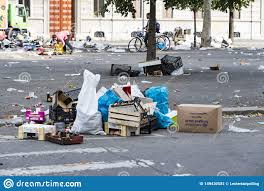garbage: (46, 91, 174, 132), (81, 81, 171, 134), (22, 108, 83, 142), (171, 103, 225, 133), (161, 55, 185, 76)
